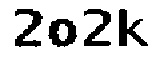2: (12, 5, 46, 51), (82, 5, 114, 51)
k: (117, 6, 148, 51)
o: (48, 17, 79, 52)
